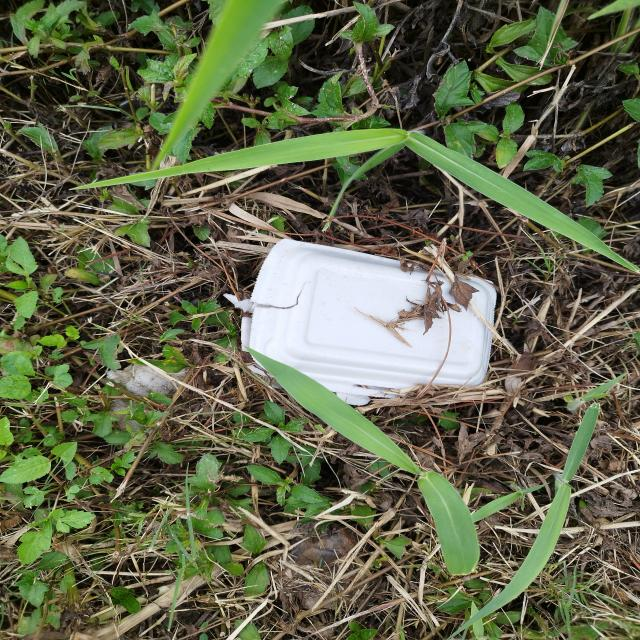foam box: (242, 237, 496, 409)
